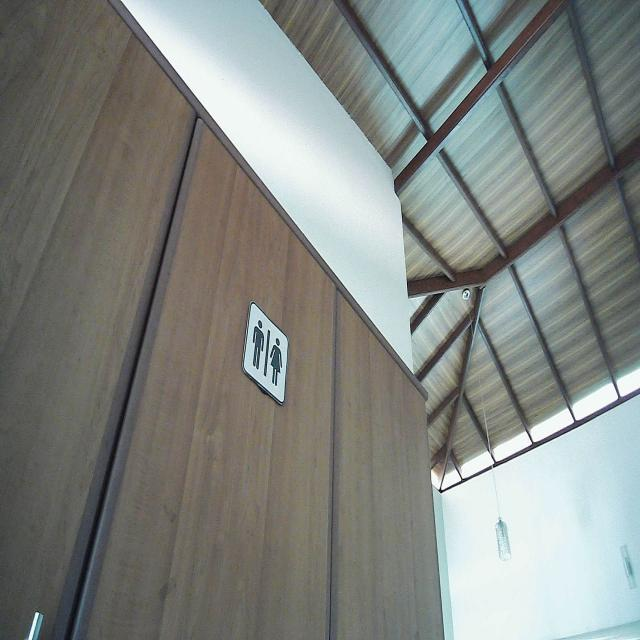restroom: (240, 296, 290, 409)
